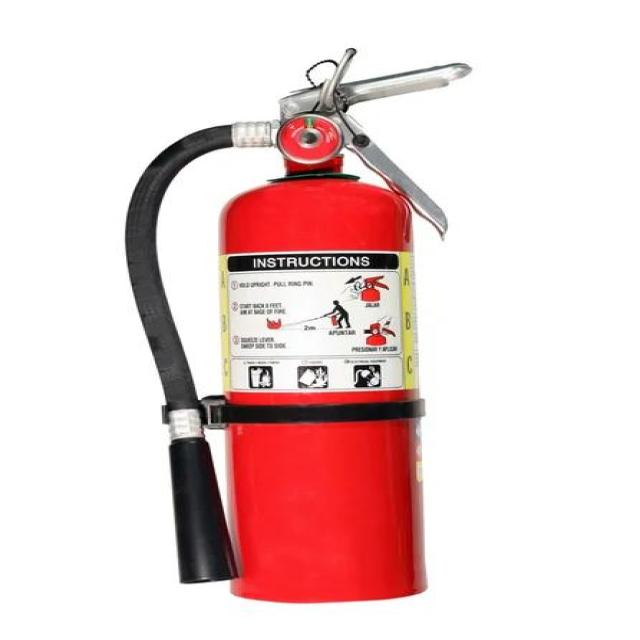fire_extinguisher: (114, 39, 467, 608)
